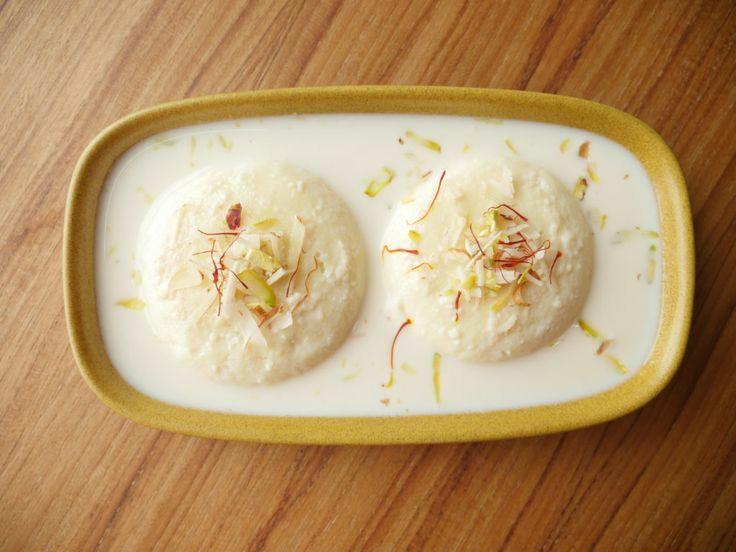RasMalai: (93, 117, 661, 415)
